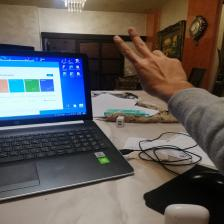two: (109, 26, 190, 100)
